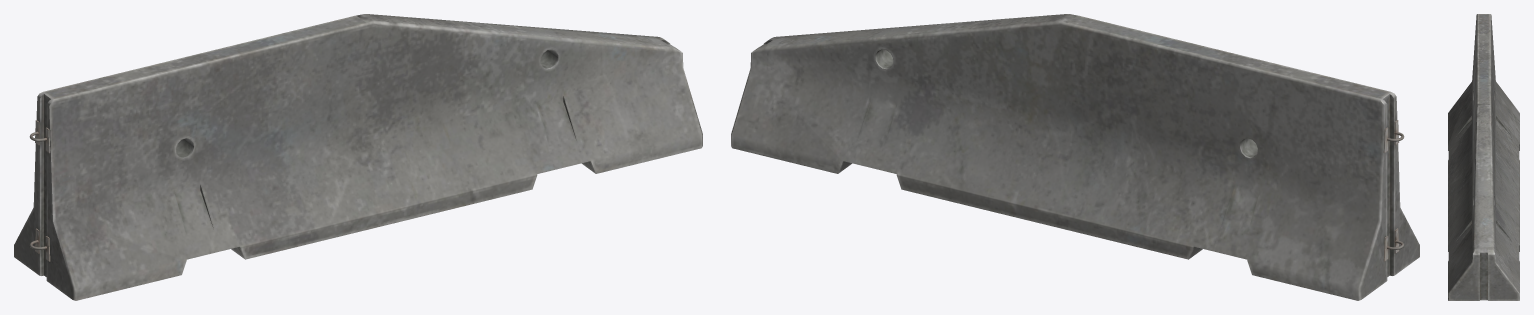
The model's file is road-barrier-cap-2.glb.
3 renders of one model, left to right at view 1: azimuth 30°, elevation 25°; view 2: azimuth 150°, elevation 25°; view 3: azimuth 270°, elevation 25°, orthographic. The views are drawn at different scales.
Parts seen in each view (by area): view 1: Object_28; view 2: Object_28; view 3: Object_28.
Part boxes in pixels (<box>): Object_28: <box>14,14,702,300</box>; Object_28: <box>731,14,1419,300</box>; Object_28: <box>1448,14,1519,300</box>.
Bounding box in the file's own units: 4.02 × 1.09 × 0.659.
Materials: 1 (1 with a texture image).
